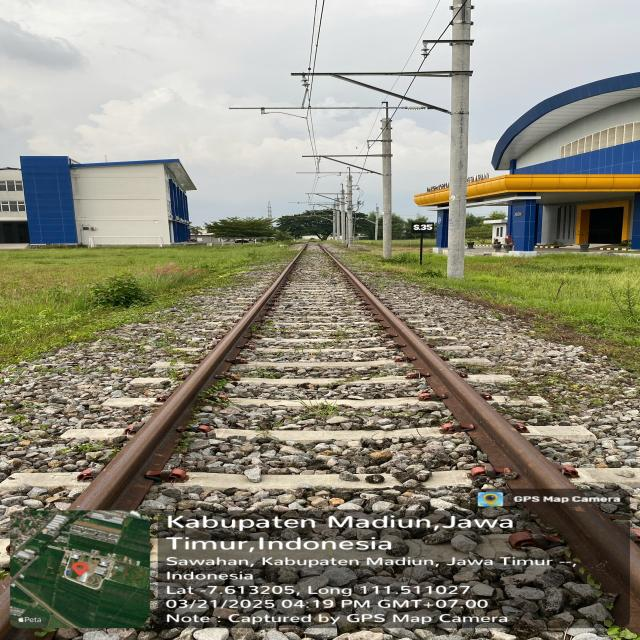rail-detection: (321, 245, 640, 606), (74, 245, 306, 510)
